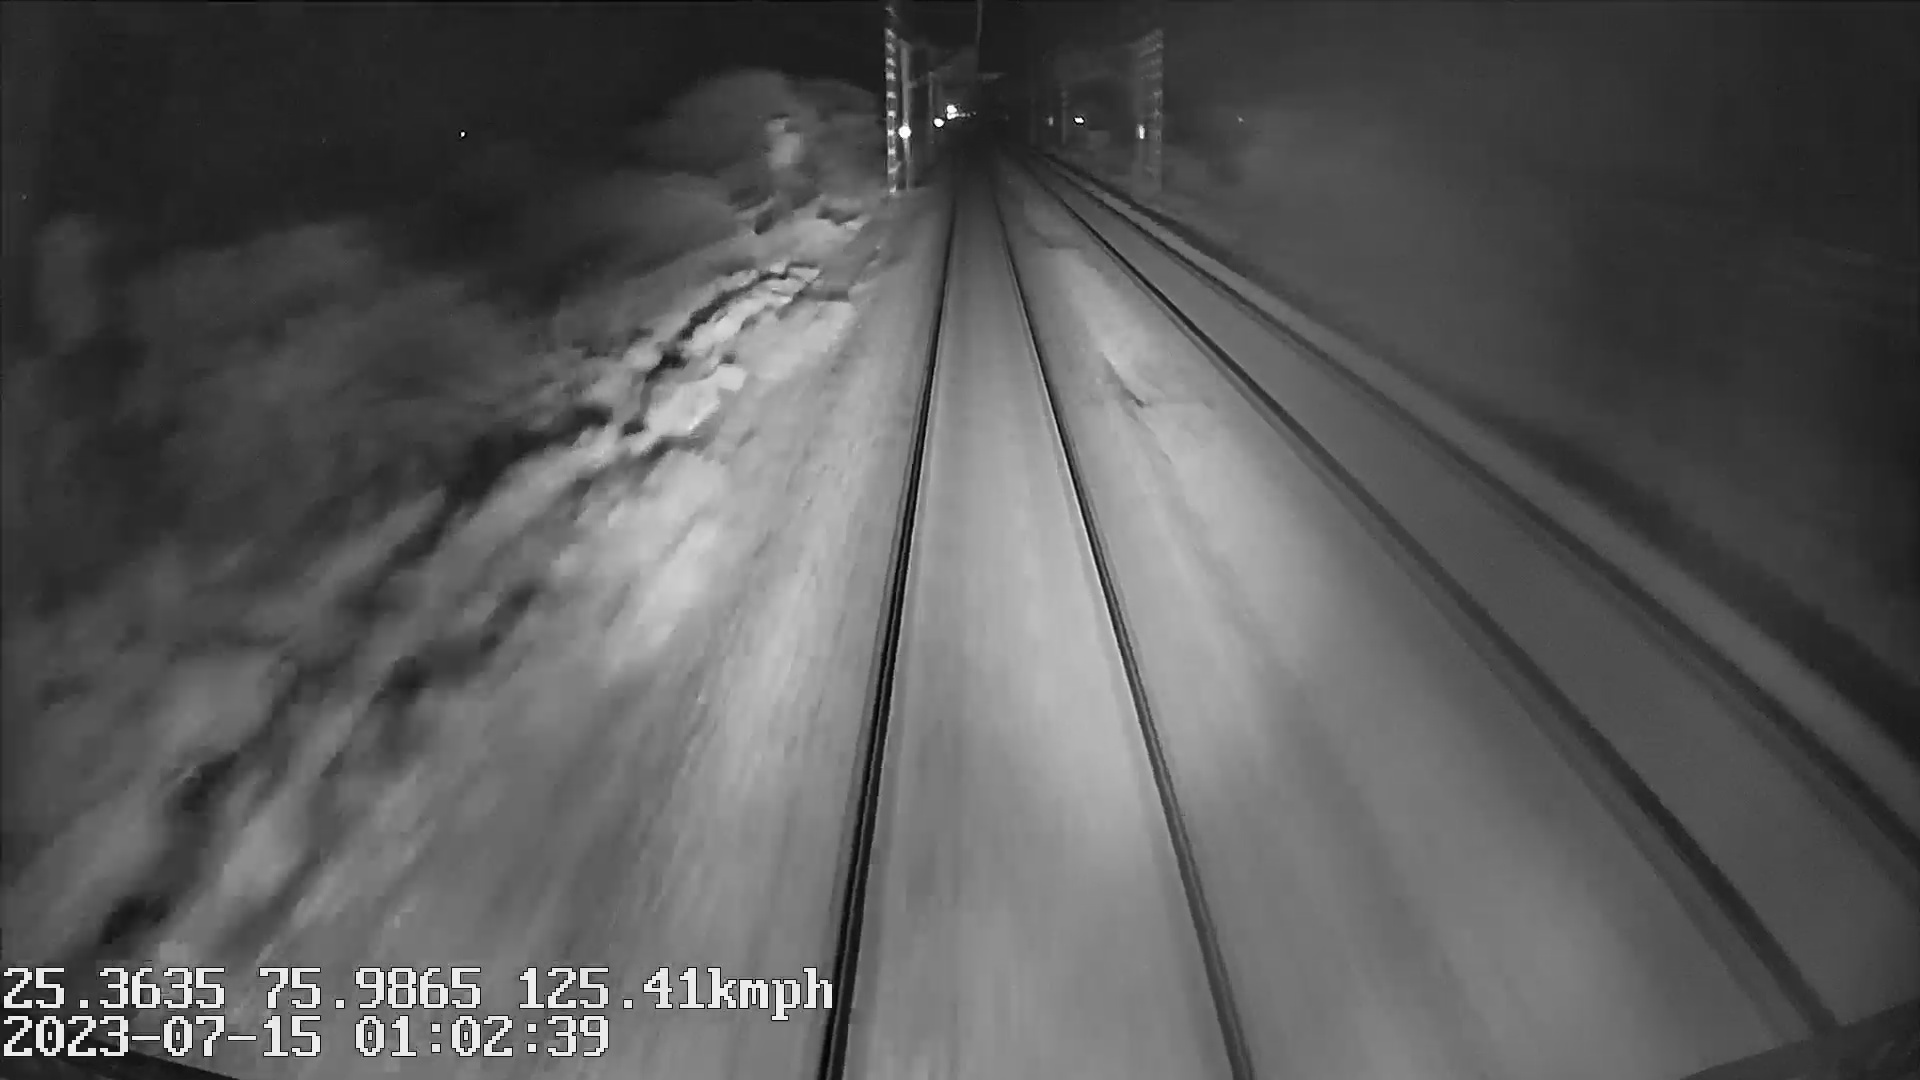track1: (832, 148, 1238, 1063)
track2: (1033, 175, 1915, 1000)
